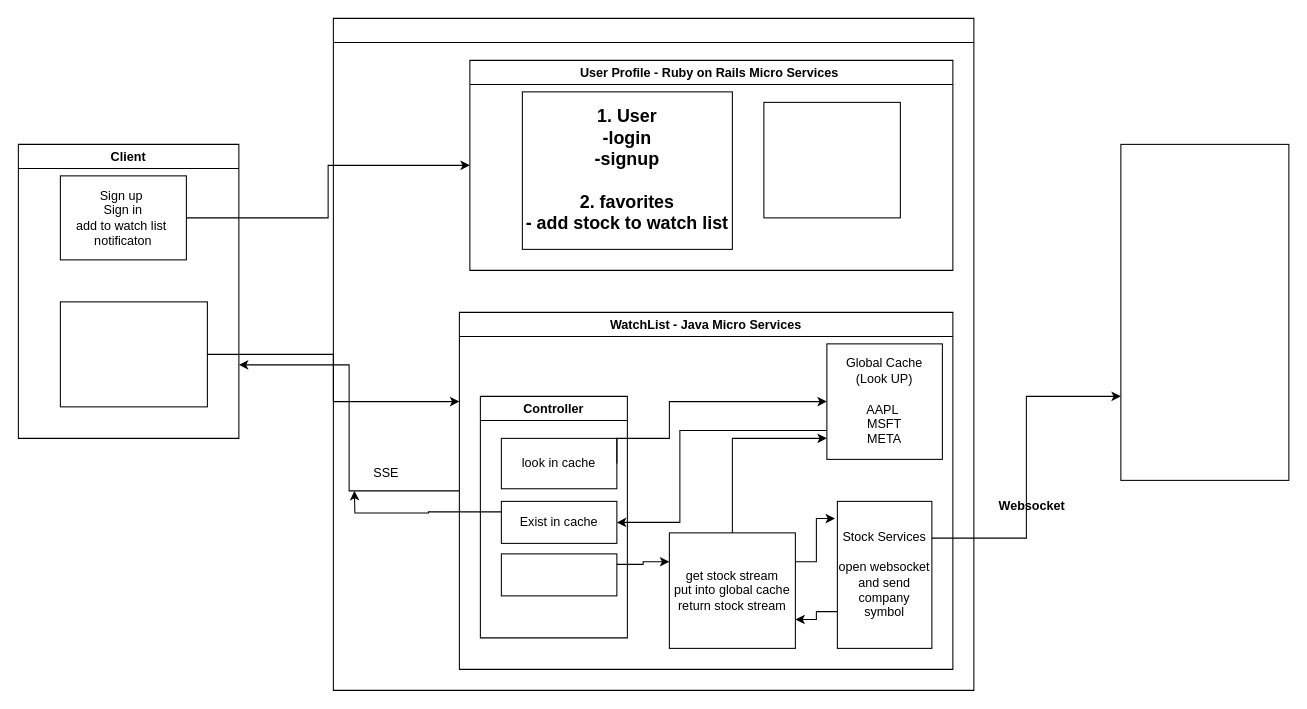
Some shapes in this 1307 by 709 pixel diagram are drawn without their labels. Each missing label, with the box of its shape:
go for stock E service: (500, 553, 617, 596)
Save user in session used authentication with hash stored password: (763, 101, 900, 218)
show real-time stock update get company qoute: (59, 301, 207, 407)
Stock Exchange Service: (1120, 143, 1289, 480)
Tradex: (332, 17, 974, 690)
